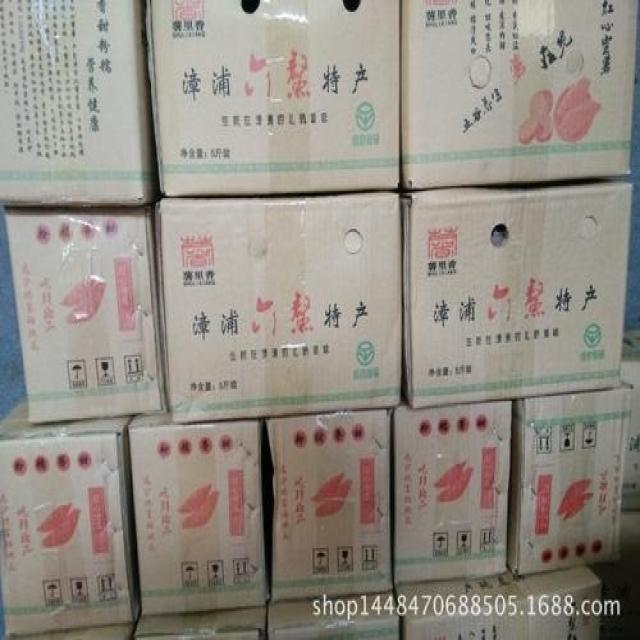box: (156, 191, 399, 422), (401, 183, 634, 404), (146, 0, 399, 196), (401, 0, 639, 191), (1, 205, 166, 425), (0, 394, 142, 637), (0, 0, 159, 207), (128, 413, 270, 616), (266, 408, 392, 602), (507, 382, 632, 577), (396, 399, 512, 585), (396, 573, 527, 640), (516, 565, 602, 640), (268, 592, 399, 640), (133, 608, 265, 640), (620, 358, 640, 510), (6, 625, 133, 640)
